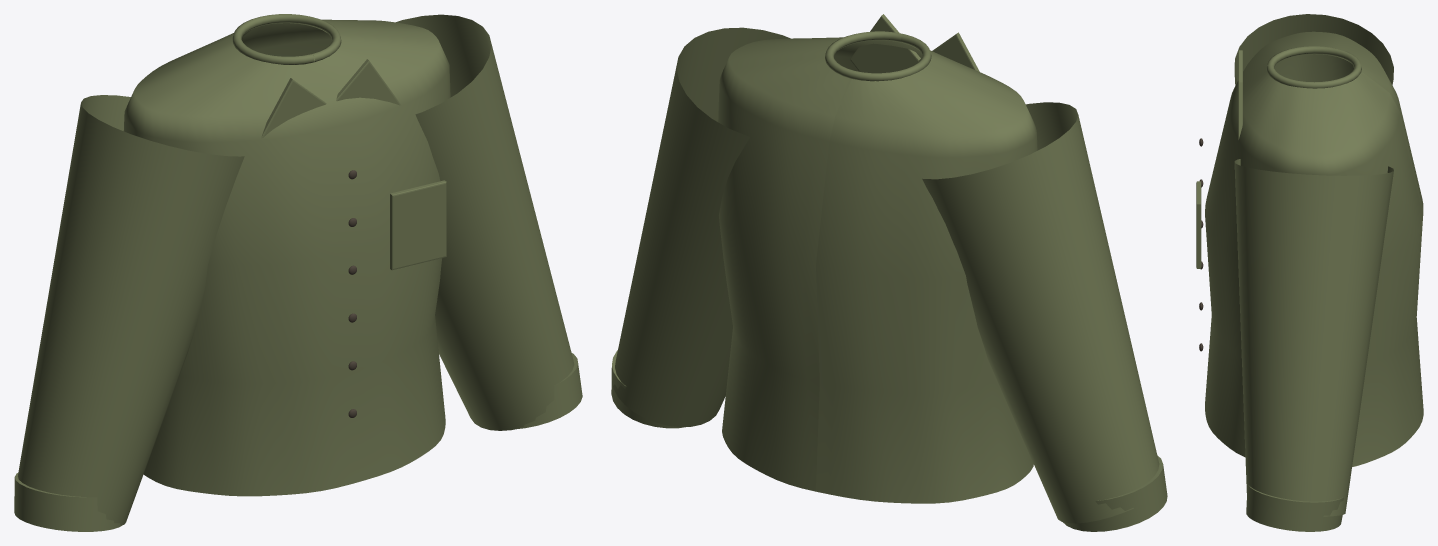
File: veste-nomade-femme.glb
The picture shows the model from 3 angles, left to right: view 1: azimuth 30°, elevation 25°; view 2: azimuth 150°, elevation 25°; view 3: azimuth 270°, elevation 25°; orthographic projection. The views are drawn at different scales.
Parts seen in each view (by area): view 1: edit-12, long-sleeve (×2); view 2: edit-12, long-sleeve (×2); view 3: edit-12, long-sleeve (×2).
Boxes of the visible parts, x1,y1,x2,y2 form: edit-12: [14, 14, 582, 531]; long-sleeve (×2): [18, 14, 574, 525]; edit-12: [611, 14, 1167, 531]; long-sleeve (×2): [612, 27, 1159, 523]; edit-12: [1196, 31, 1423, 531]; long-sleeve (×2): [1234, 14, 1393, 516].
Size of the model in its own units: 0.7997 by 0.5891 by 0.3316.
